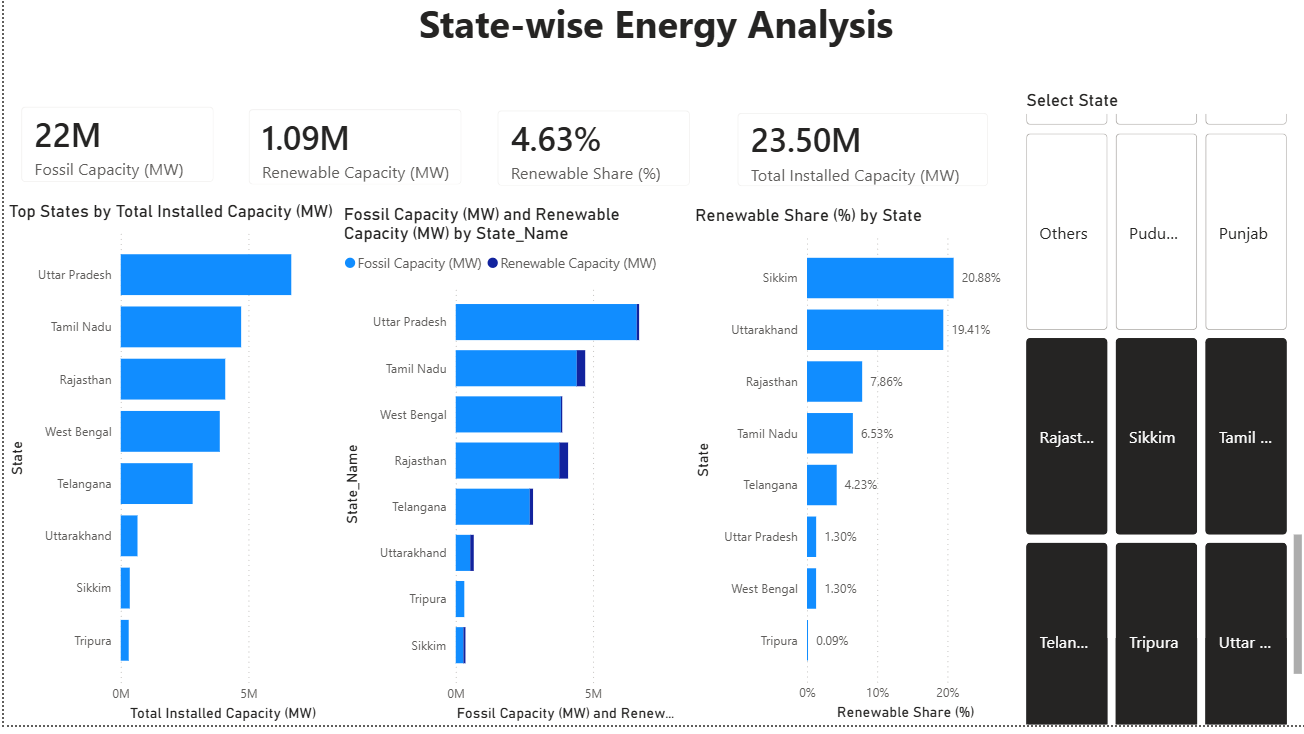

What the dashboard file says about the page in this screenshot:
{"tool":"powerbi","page":{"name":"State-wise Energy Analysis","canvas":[1280,720],"ordinal":1},"visuals":[{"type":"advancedSlicerVisual","title":"Select State","fields":{"Values":["ENERGY_CAPACITY.State"]},"box":[998.6,95.9,280.8,624.7],"z":0},{"type":"cardVisual","fields":{"Data":["ENERGY_CAPACITY.Fossil Capacity (MW)"]},"box":[0,95.9,223.3,108.2],"z":1000},{"type":"cardVisual","fields":{"Data":["ENERGY_CAPACITY.Renewable Capacity (MW)"]},"box":[223.3,98.6,243.8,108.2],"z":2000},{"type":"cardVisual","fields":{"Data":["ENERGY_CAPACITY.Renewable Share (%)"]},"box":[467.1,100,223.3,108.2],"z":3000},{"type":"cardVisual","fields":{"Data":["ENERGY_CAPACITY.Total Installed Capacity (MW)"]},"box":[702.7,101.4,280.8,106.8],"z":4000},{"type":"clusteredBarChart","title":"Top States by Total Installed Capacity (MW)","fields":{"Category":["ENERGY_CAPACITY.State"],"Y":["ENERGY_CAPACITY.Total Installed Capacity (MW)"]},"box":[0,204.5,329.3,516],"z":5000},{"type":"barChart","fields":{"Category":["Dim_State.State_Name"],"Y":["ENERGY_CAPACITY.Fossil Capacity (MW)","ENERGY_CAPACITY.Renewable Capacity (MW)","select"]},"box":[329.3,207.2,344.4,513.2],"z":6000},{"type":"clusteredBarChart","fields":{"Category":["ENERGY_CAPACITY.State"],"Y":["ENERGY_CAPACITY.Renewable Share (%)"]},"box":[673.8,208.6,325.2,511.8],"z":7000},{"type":"textbox","box":[0,0,1280.3,82.3],"z":7001}]}

Visuals, with their boxes in screenshot pixels (x1, y1, x2, y2), scaled from the page's 1280x720 canvas onto the 1304x734 screenshot:
"Select State" advancedSlicerVisual: 1017 98 1303 733
cardVisual - ENERGY_CAPACITY.Fossil Capacity (MW): 0 98 227 208
cardVisual - ENERGY_CAPACITY.Renewable Capacity (MW): 227 101 476 211
cardVisual - ENERGY_CAPACITY.Renewable Share (%): 476 102 703 212
cardVisual - ENERGY_CAPACITY.Total Installed Capacity (MW): 716 103 1002 212
"Top States by Total Installed Capacity (MW)" clusteredBarChart: 0 208 335 733
barChart - Dim_State.State_Name x ENERGY_CAPACITY.Fossil Capacity (MW): 335 211 686 733
clusteredBarChart - ENERGY_CAPACITY.State x ENERGY_CAPACITY.Renewable Share (%): 686 213 1018 733
textbox: 0 0 1303 84
